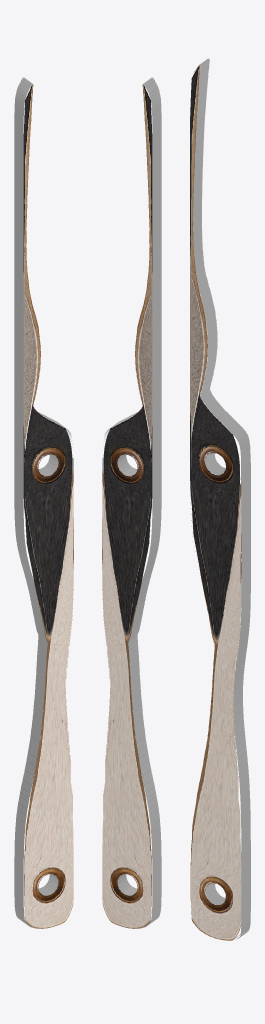
File: UpperLeg.glb
The picture shows the model from 3 angles, left to right: view 1: azimuth 30°, elevation 25°; view 2: azimuth 150°, elevation 25°; view 3: azimuth 330°, elevation 25°; orthographic projection. The views are drawn at different scales.
Visible parts, largest first — view 1: PaperVolume; view 2: PaperVolume; view 3: PaperVolume.
Boxes of the visible parts, box(x1,y1,x2,y2) form: PaperVolume: box(14, 77, 73, 928); PaperVolume: box(102, 77, 161, 928); PaperVolume: box(190, 58, 250, 940).
Size of the model in its own units: 0.25 by 4.66 by 0.08.
Materials: 3 (2 with a texture image).
